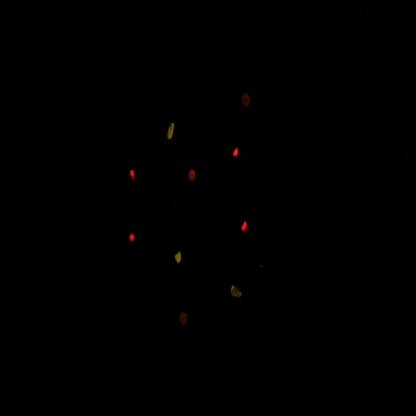PET: (125, 219, 144, 255), (237, 213, 256, 243), (229, 140, 246, 168), (126, 161, 143, 189)
PP: (228, 272, 249, 314), (161, 115, 180, 153), (171, 237, 190, 275)
PS: (238, 87, 257, 116), (184, 164, 202, 190), (176, 309, 195, 333)
